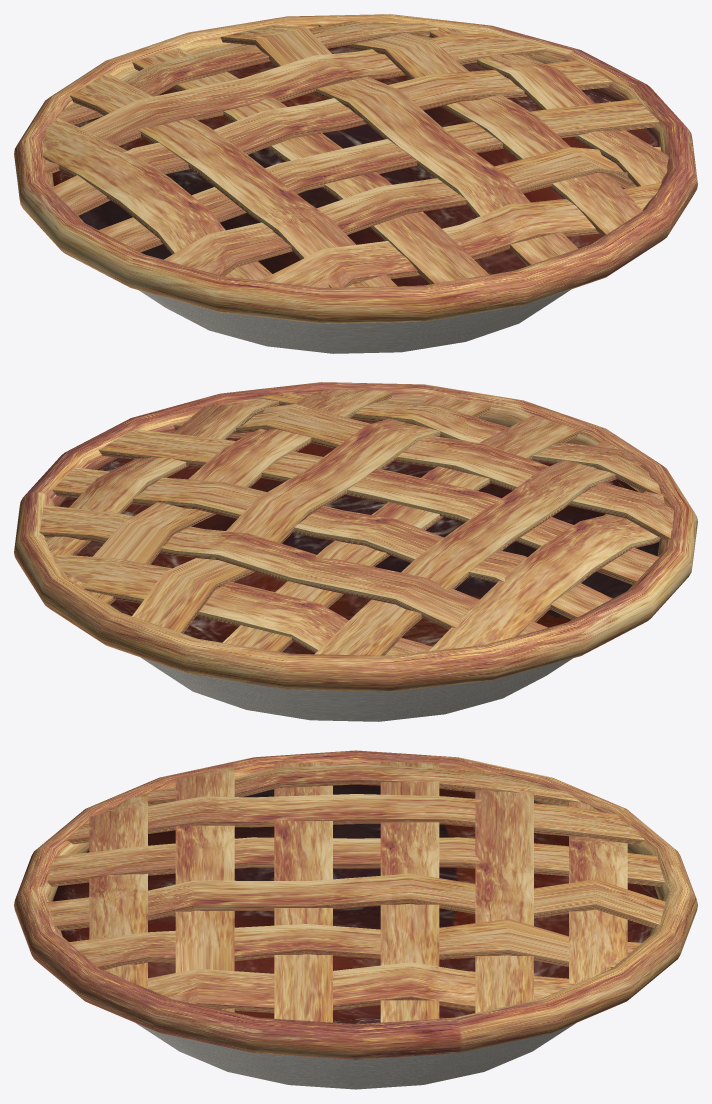
File: pie.fbx
The picture shows the model from 3 angles, top to bottom: view 1: azimuth 30°, elevation 25°; view 2: azimuth 150°, elevation 25°; view 3: azimuth 270°, elevation 25°; orthographic projection.
Parts seen in each view (by area): view 1: pTorus1, pCube10, pSphere1, pCube3, pCube8, pCube5, pCube1, pCube2, pCube6, pCube7, pCube11, pCylinder1 (+3 smaller); view 2: pTorus1, pCube10, pCube3, pCube8, pSphere1, pCube1, pCube7, pCube2, pCube5, pCylinder1, pCube4, pCube11 (+3 smaller); view 3: pTorus1, pCube10, pSphere1, pCube8, pCube11, pCube3, pCube12, pCylinder1, pCube9, pCube2, pCube1, pCube5 (+3 smaller).
Part boxes in pixels (x1,y1,x2,y2): pTorus1: [14, 14, 697, 323]; pCube10: [220, 24, 578, 266]; pSphere1: [52, 45, 657, 286]; pCube3: [43, 33, 547, 174]; pCube8: [70, 73, 397, 287]; pCube5: [163, 146, 661, 276]; pCube1: [51, 60, 612, 215]; pCube2: [99, 99, 659, 252]; pCube6: [261, 182, 661, 287]; pCube7: [42, 118, 272, 280]; pCube11: [318, 21, 642, 235]; pCylinder1: [139, 289, 570, 353]; pTorus1: [14, 382, 697, 691]; pCube10: [132, 395, 491, 633]; pCube3: [39, 505, 547, 643]; pCube8: [314, 441, 641, 655]; pSphere1: [59, 419, 659, 654]; pCube1: [52, 467, 612, 619]; pCube7: [429, 491, 664, 651]; pCube2: [98, 429, 659, 584]; pCube5: [173, 404, 674, 540]; pCylinder1: [141, 657, 572, 721]; pCube4: [53, 554, 432, 655]; pCube11: [69, 389, 394, 604]; pTorus1: [14, 750, 697, 1059]; pCube10: [47, 873, 665, 930]; pSphere1: [53, 784, 658, 1024]; pCube8: [66, 794, 645, 844]; pCube11: [68, 919, 641, 970]; pCube3: [475, 768, 533, 1012]; pCube12: [148, 962, 574, 1013]; pCylinder1: [136, 1023, 575, 1089]; pCube9: [47, 837, 664, 886]; pCube2: [274, 761, 332, 1022]; pCube1: [380, 761, 439, 1022]; pCube5: [175, 766, 234, 1012].
Size of the model in its own units: 11.64 by 2.51 by 11.64.
